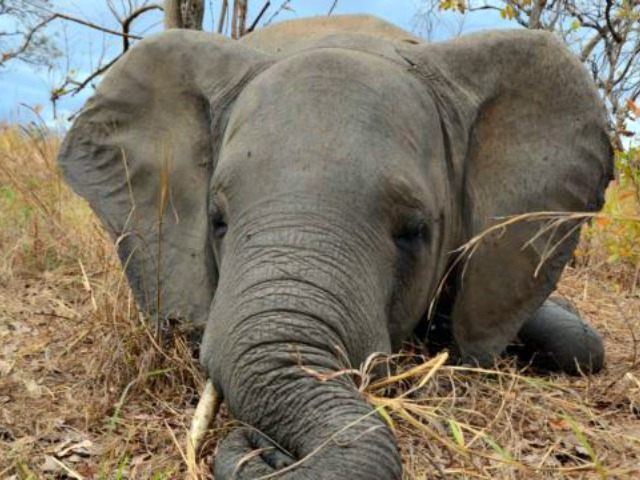elephant: (56, 11, 622, 479)
